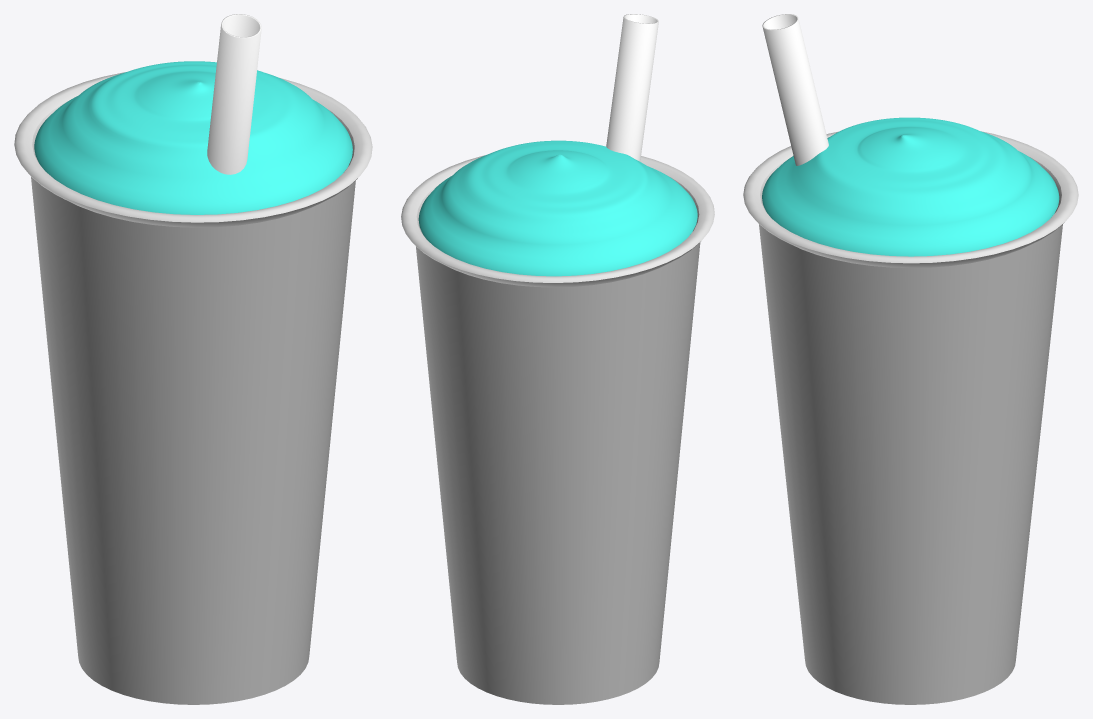
File: Slush.fbx
3 renders of one model, left to right at view 1: azimuth 30°, elevation 25°; view 2: azimuth 150°, elevation 25°; view 3: azimuth 270°, elevation 25°, orthographic. The views are drawn at different scales.
Parts seen in each view (by area): view 1: Cylinder002, Cylinder003, Cylinder004; view 2: Cylinder002, Cylinder003, Cylinder004; view 3: Cylinder002, Cylinder003, Cylinder004.
Part boxes in pixels (x1,y1,x2,y2): Cylinder002: (14,72,372,704); Cylinder003: (34,61,352,214); Cylinder004: (207,14,261,174); Cylinder002: (401,155,714,704); Cylinder003: (418,140,697,276); Cylinder004: (606,14,658,161); Cylinder002: (743,131,1078,704); Cylinder003: (762,117,1059,256); Cylinder004: (762,14,828,165).
Size of the model in its own units: 7.66 by 16.47 by 7.93.
